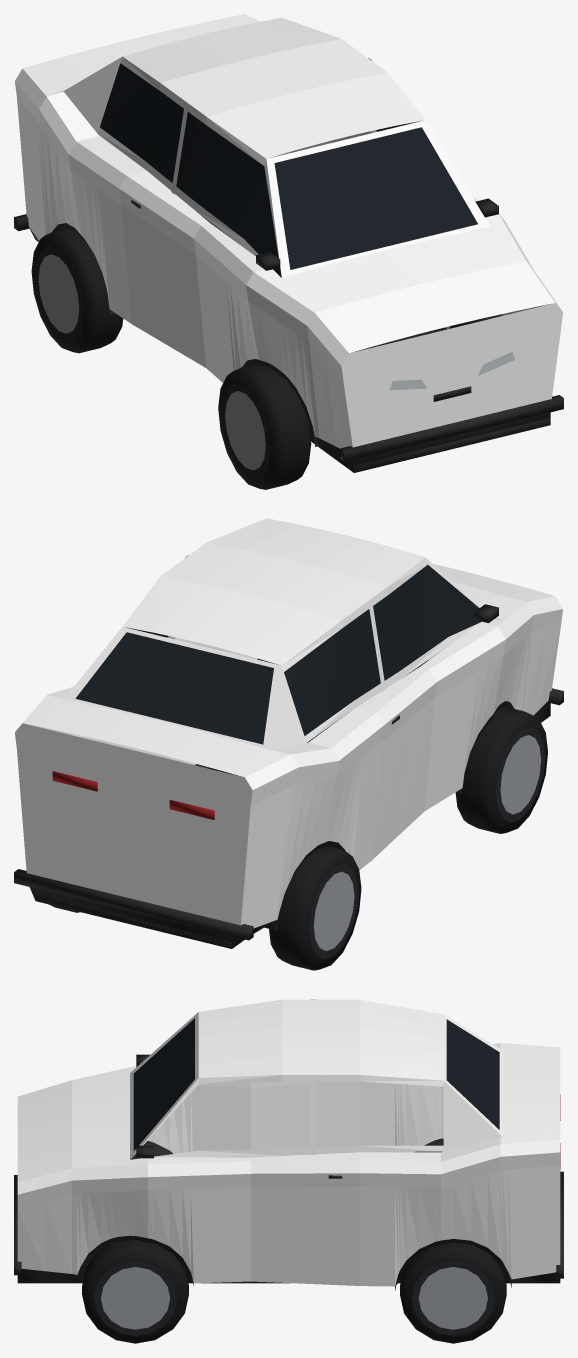
File: ridgeway_escarpa.glb
The picture shows the model from 3 angles, top to bottom: view 1: azimuth 30°, elevation 25°; view 2: azimuth 150°, elevation 25°; view 3: azimuth 270°, elevation 25°; orthographic projection. The views are drawn at different scales.
Parts seen in each view (by area): view 1: Body_Paint, Body_Details, Mount_FrontLeft_Wheel_Details, Mount_RearLeft_Wheel_Details; view 2: Body_Paint, Body_Details, Mount_FrontLeft_Wheel_Details, Mount_RearLeft_Wheel_Details; view 3: Body_Paint, Body_Details, Mount_FrontRight_Wheel_Details, Mount_RearRight_Wheel_Details.
Part boxes in pixels (x1,y1,x2,y2): Body_Paint: (15,14,562,448); Body_Details: (14,63,563,472); Mount_FrontLeft_Wheel_Details: (218,364,311,489); Mount_RearLeft_Wheel_Details: (31,228,123,353); Body_Paint: (15,518,562,928); Body_Details: (14,565,563,948); Mount_FrontLeft_Wheel_Details: (455,706,547,833); Mount_RearLeft_Wheel_Details: (269,846,361,970); Body_Paint: (17,999,560,1286); Body_Details: (14,1018,563,1290); Mount_FrontRight_Wheel_Details: (82,1240,188,1343); Mount_RearRight_Wheel_Details: (400,1242,506,1343).
Size of the model in its own units: 1.98 by 2.05 by 4.01.
Materials: 2 (1 with a texture image).
